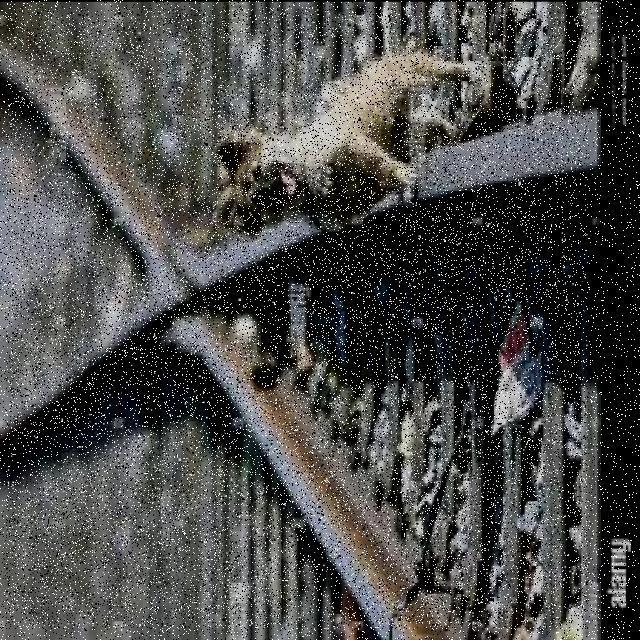danger: (215, 37, 477, 248)
rail: (6, 8, 588, 629)
